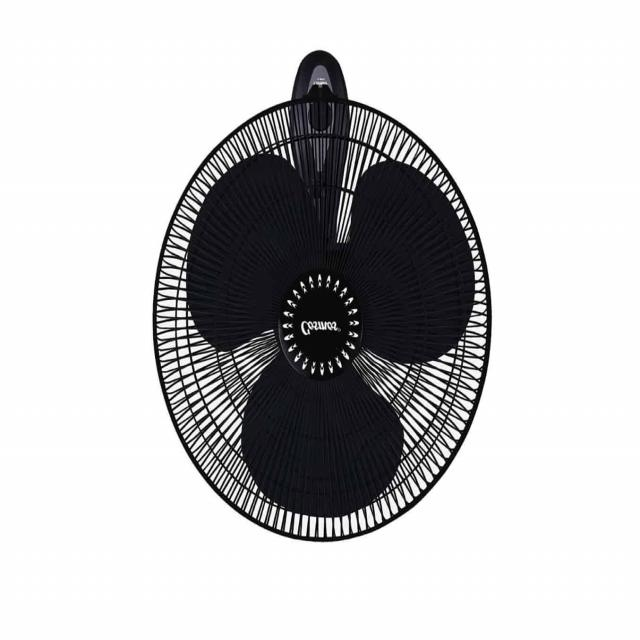fan: (144, 47, 494, 554)
